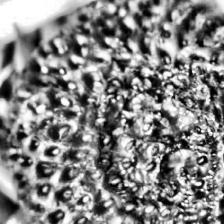Anthracnose Fruit Rot: (53, 36, 224, 224)
